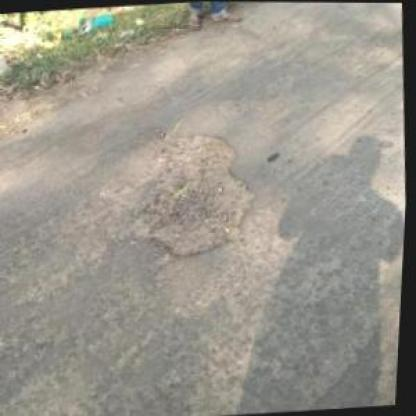pothole: (121, 123, 264, 265), (216, 94, 257, 122)
